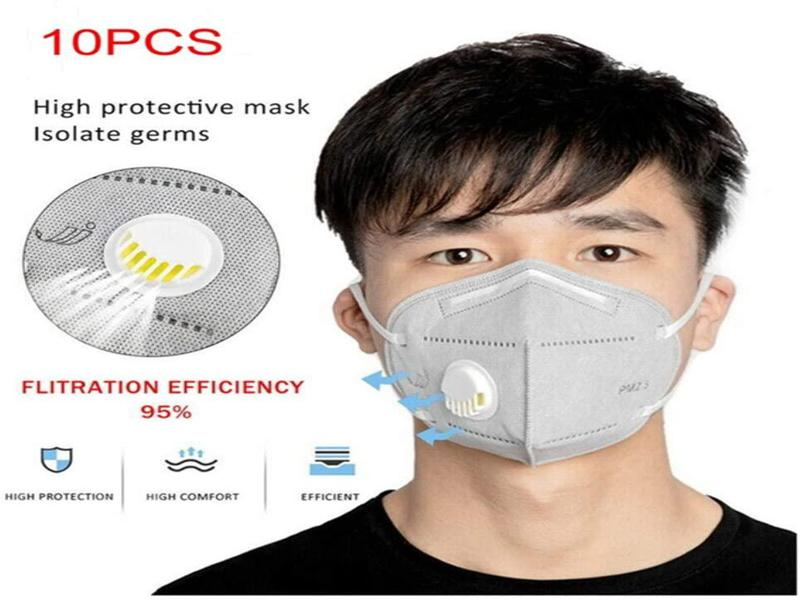with_mask: (360, 132, 705, 472)
